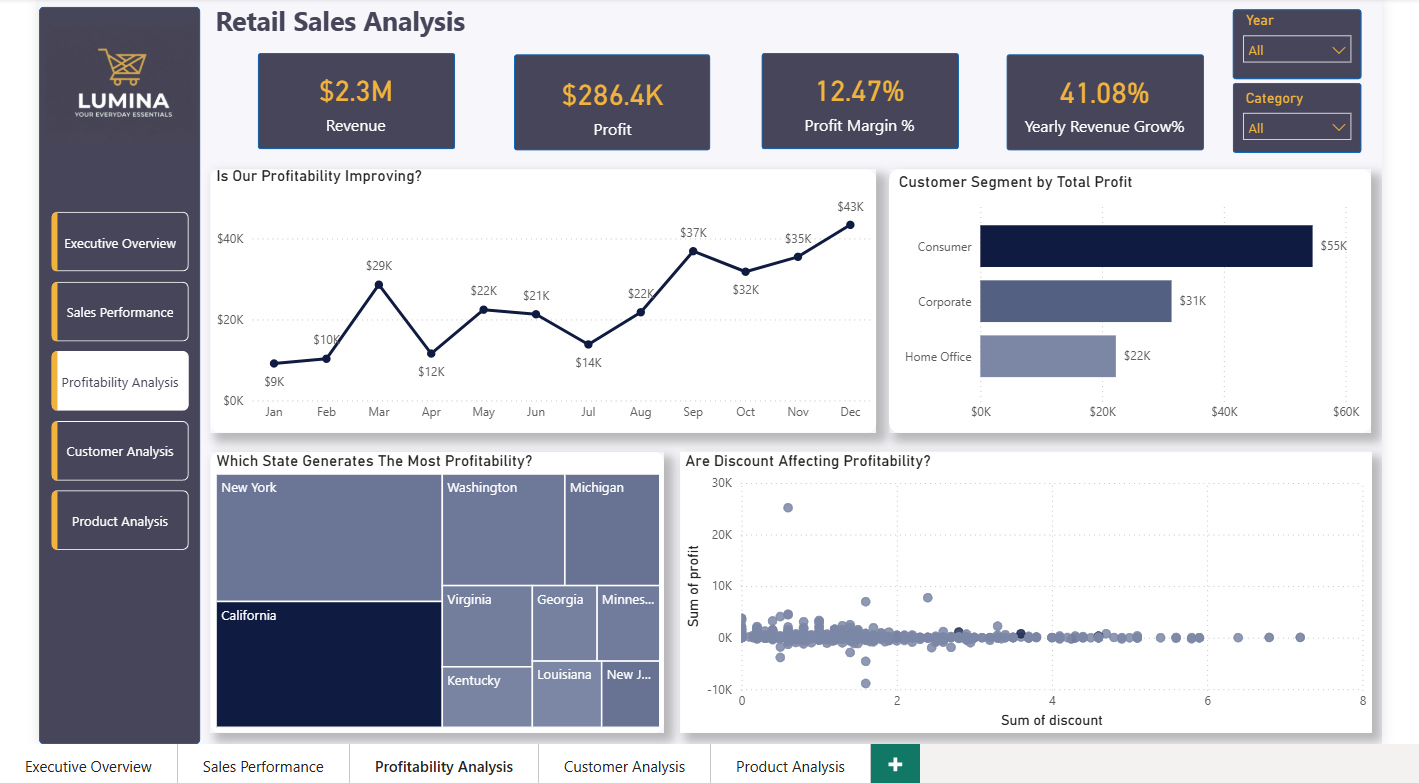

Layout of this report page (visuals, bound fields, positions):
{"tool":"powerbi","page":{"name":"Profitability Analysis","canvas":[1350,750],"ordinal":2},"visuals":[{"type":"shape","box":[644.7,456.2,695,282.8],"z":0},{"type":"shape","box":[172.2,172.2,669.8,265.2],"z":1000},{"type":"shape","box":[0,8.8,162.1,741.5],"z":2000},{"type":"pageNavigator","box":[12.4,214.5,138.9,341],"z":3000},{"type":"shape","box":[219.9,55.3,198.6,96.8],"z":5000},{"type":"shape","box":[477.5,56.6,197.3,96.8],"z":6000},{"type":"shape","box":[726.4,55.3,198.6,96.8],"z":7000},{"type":"shape","box":[972.7,56.6,198.6,96.8],"z":8000},{"type":"shape","box":[1200.2,11.3,129.4,70.4],"z":9000},{"type":"textbox","box":[172.4,0,317.4,47.1],"z":10000},{"type":"card","fields":{"Values":["fact_table.total_sale"]},"box":[219.9,55.3,197.3,95.5],"z":11000},{"type":"card","fields":{"Values":["fact_table.total_profit"]},"box":[478.8,59.1,196,95.5],"z":12000},{"type":"card","fields":{"Values":["fact_table.profit_margin"]},"box":[726.4,55.3,197.3,95.5],"z":13000},{"type":"card","fields":{"Values":["dim_customer.yearly_sales_grow %"]},"box":[972.7,56.6,197.3,95.5],"z":14000},{"type":"shape","box":[854.6,172.2,485.1,265.2],"z":15000},{"type":"shape","box":[172.2,456.2,456.2,282.8],"z":16000},{"type":"treemap","title":"Which State Generates The Most Profitability?","fields":{"Group":["dim_location.state"],"Values":["fact_table.total_profit"]},"box":[173.7,455.9,455.9,282.2],"z":17000},{"type":"barChart","title":"Customer Segment by Total Profit","fields":{"Category":["dim_customer.segment"],"Y":["fact_table.total_profit"]},"box":[859.6,175.9,475,258.9],"z":18000},{"type":"lineChart","title":"Is Our Profitability Improving?","fields":{"Y":["fact_table.total_profit"],"Category":["dim_date.Date.Variation.Date Hierarchy.Quarter","dim_date.month"]},"box":[173.4,169.7,668.6,265.2],"z":19000},{"type":"slicer","fields":{"Values":["dim_date.Date.Variation.Date Hierarchy.Year"]},"box":[1200.2,8.8,129.4,69.1],"z":20000},{"type":"shape","box":[1200.2,85.5,129.4,70.4],"z":21000},{"type":"slicer","fields":{"Values":["dim_product.category"]},"box":[1200.2,86.7,129.4,69.1],"z":22000},{"type":"scatterChart","title":"Are Discount Affecting Profitability?","fields":{"Category":["dim_product.product_name"],"X":["Sum(fact_table.discount)"],"Y":["Sum(fact_table.profit)"]},"box":[644.7,456.2,695,282.8],"z":23000},{"type":"image","box":[6.3,18.9,152.1,134.5],"z":23001}]}

Visuals, with their boxes on the page's 1350x750 design canvas (x1, y1, x2, y2). These are canvas units, not pixel positions in the 1419x783 screenshot, which may show the page scaled, cropped or inside an application window:
shape: region(645, 456, 1340, 739)
shape: region(172, 172, 842, 437)
shape: region(0, 9, 162, 750)
pageNavigator: region(12, 214, 151, 556)
shape: region(220, 55, 418, 152)
shape: region(478, 57, 675, 153)
shape: region(726, 55, 925, 152)
shape: region(973, 57, 1171, 153)
shape: region(1200, 11, 1330, 82)
textbox: region(172, 0, 490, 47)
card - fact_table.total_sale: region(220, 55, 417, 151)
card - fact_table.total_profit: region(479, 59, 675, 155)
card - fact_table.profit_margin: region(726, 55, 924, 151)
card - dim_customer.yearly_sales_grow %: region(973, 57, 1170, 152)
shape: region(855, 172, 1340, 437)
shape: region(172, 456, 628, 739)
"Which State Generates The Most Profitability?" treemap: region(174, 456, 630, 738)
"Customer Segment by Total Profit" barChart: region(860, 176, 1335, 435)
"Is Our Profitability Improving?" lineChart: region(173, 170, 842, 435)
slicer - dim_date.Date.Variation.Date Hierarchy.Year: region(1200, 9, 1330, 78)
shape: region(1200, 86, 1330, 156)
slicer - dim_product.category: region(1200, 87, 1330, 156)
"Are Discount Affecting Profitability?" scatterChart: region(645, 456, 1340, 739)
image: region(6, 19, 158, 153)
